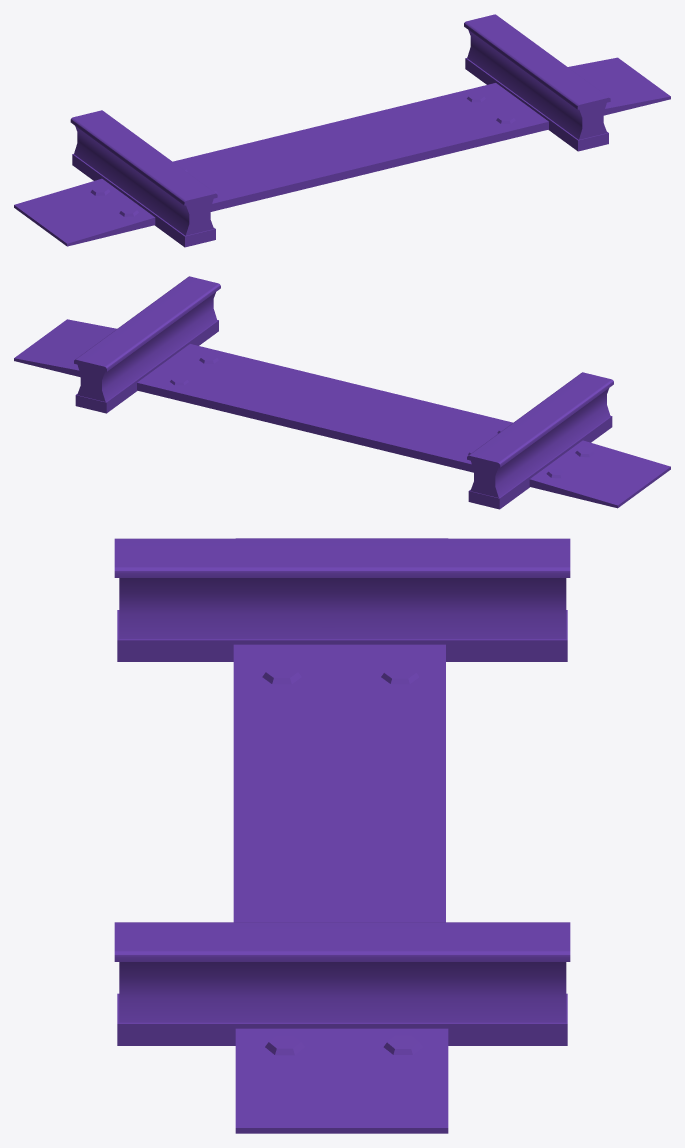
The model's file is Mini-UV.fbx.
3 renders of one model, top to bottom at view 1: azimuth 30°, elevation 25°; view 2: azimuth 150°, elevation 25°; view 3: azimuth 270°, elevation 25°, orthographic. The views are drawn at different scales.
Parts seen in each view (by area): view 1: Mini; view 2: Mini; view 3: Mini.
Boxes of the visible parts, left/top/right/bottom form: Mini: left=14, top=14, right=670, bottom=247; Mini: left=14, top=276, right=670, bottom=509; Mini: left=114, top=538, right=570, bottom=1133.
Bounding box in the file's own units: 3.88 × 0.2883 × 1.27.
